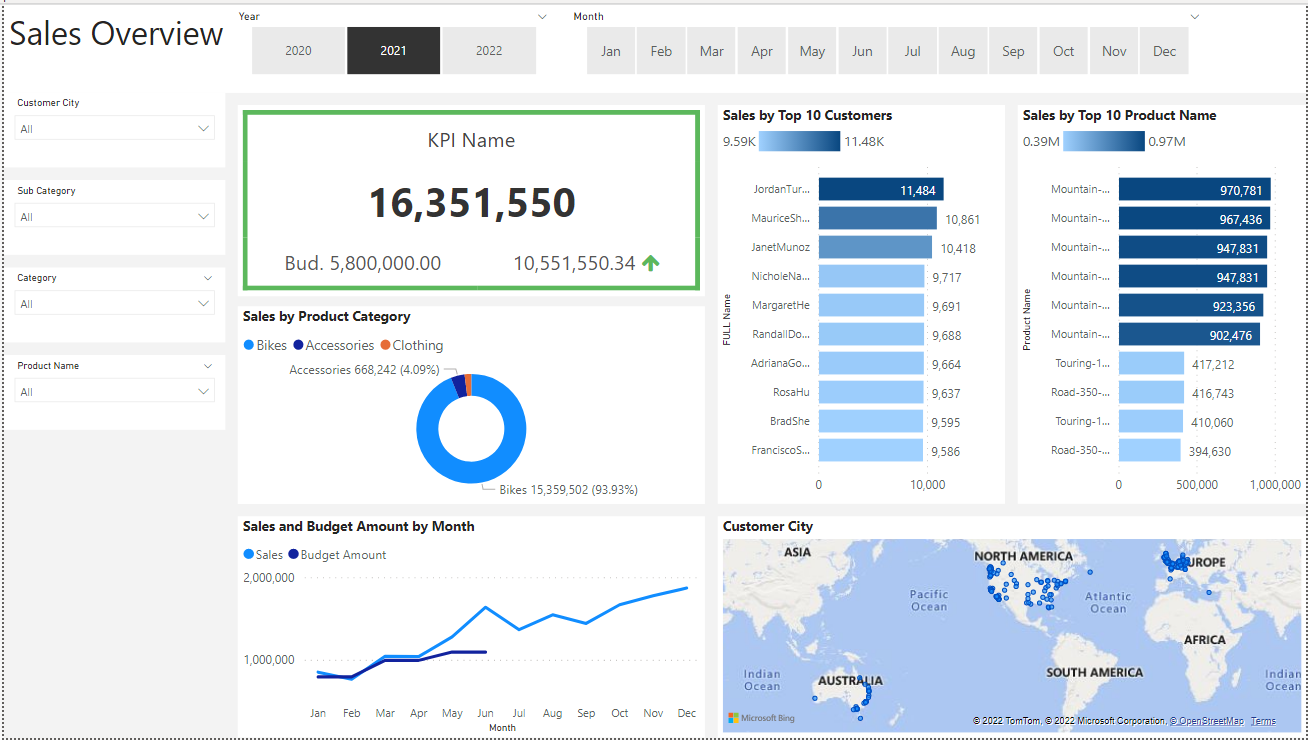

What the dashboard file says about the page in this screenshot:
{"tool":"powerbi","page":{"name":"Sales Overview","canvas":[1280,720],"ordinal":0},"visuals":[{"type":"textbox","box":[0,0,1280,86.5],"z":0},{"type":"slicer","fields":{"Values":["Dim_Customer.Customer City"]},"box":[0,86,217.5,73.7],"z":1000},{"type":"slicer","fields":{"Values":["Dim_Product.Sub Category"]},"box":[0,172,217.5,73.7],"z":2000},{"type":"slicer","fields":{"Values":["Dim_Product.Product Category"]},"box":[0,258,217.5,73.7],"z":3000},{"type":"slicer","fields":{"Values":["Dim_Product.Product Name"]},"box":[0,344,217.5,73.7],"z":4000},{"type":"slicer","fields":{"Values":["Dim_Calendar.Year"]},"box":[217.5,0,329.3,74.9],"z":5000},{"type":"slicer","fields":{"Values":["Dim_Calendar.MonthShort"]},"box":[546.8,0,641.4,74.9],"z":6000},{"type":"BBED0A4D4D8D44CE93CF2DAFADEE466C","fields":{"actual":["Fact_InternetSales.Sales"],"target1":["Fact_Budget.Budget Amount"],"target2":["Key Measures.Sales - Budget Amount"]},"box":[229.8,98.3,459.5,188],"z":7000},{"type":"donutChart","fields":{"Category":["Dim_Product.Product Category"],"Y":["Key Measures.Sales"]},"box":[229.8,296.1,459.5,194.1],"z":8000},{"type":"lineChart","fields":{"Y":["Key Measures.Sales","Key Measures.Budget Amount"],"Category":["Dim_Calendar.MonthShort"]},"box":[229.8,502.5,459.5,217.5],"z":9000},{"type":"barChart","title":"Sales by Top 10 Customers","fields":{"Y":["Key Measures.Sales"],"Category":["Dim_Customer.FULL Name"]},"box":[701.6,98.3,282.6,391.9],"z":10000},{"type":"barChart","title":"Sales by Top 10 Product Name","fields":{"Y":["Key Measures.Sales"],"Category":["Dim_Product.Product Name"]},"box":[996.5,98.3,283.8,391.9],"z":11000},{"type":"map","fields":{"Category":["Dim_Customer.Customer City"]},"box":[701.6,502.5,578.7,217.5],"z":12000}]}

Visuals, with their boxes in screenshot pixels (x1, y1, x2, y2), scaled from the page's 1280x720 canvas onto the 1308x740 screenshot:
textbox: [left=0, top=0, right=1307, bottom=89]
slicer - Dim_Customer.Customer City: [left=0, top=88, right=222, bottom=164]
slicer - Dim_Product.Sub Category: [left=0, top=177, right=222, bottom=253]
slicer - Dim_Product.Product Category: [left=0, top=265, right=222, bottom=341]
slicer - Dim_Product.Product Name: [left=0, top=354, right=222, bottom=429]
slicer - Dim_Calendar.Year: [left=222, top=0, right=559, bottom=77]
slicer - Dim_Calendar.MonthShort: [left=559, top=0, right=1214, bottom=77]
BBED0A4D4D8D44CE93CF2DAFADEE466C - Fact_InternetSales.Sales x Fact_Budget.Budget Amount: [left=235, top=101, right=704, bottom=294]
donutChart - Dim_Product.Product Category x Key Measures.Sales: [left=235, top=304, right=704, bottom=504]
lineChart - Key Measures.Sales x Key Measures.Budget Amount: [left=235, top=516, right=704, bottom=739]
"Sales by Top 10 Customers" barChart: [left=717, top=101, right=1006, bottom=504]
"Sales by Top 10 Product Name" barChart: [left=1018, top=101, right=1307, bottom=504]
map - Dim_Customer.Customer City: [left=717, top=516, right=1307, bottom=739]
